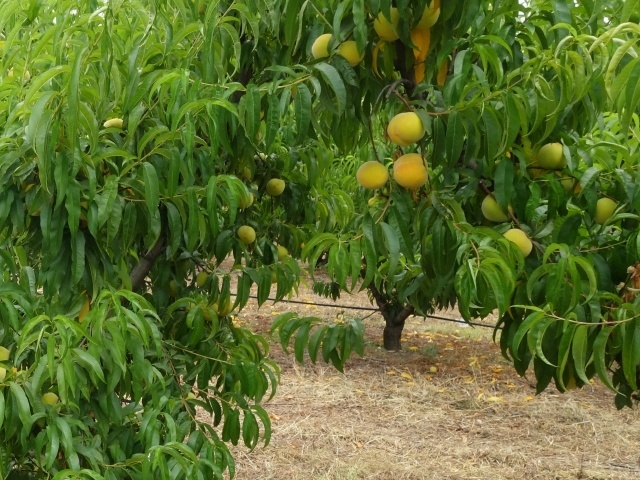peach: (384, 108, 428, 150), (372, 2, 412, 46), (392, 151, 434, 191), (351, 157, 392, 193), (478, 186, 513, 225), (535, 138, 570, 172), (591, 193, 623, 227), (310, 30, 340, 65), (501, 225, 534, 255), (411, 1, 444, 31), (334, 37, 364, 67), (40, 390, 64, 415), (234, 223, 258, 248), (262, 175, 287, 197), (193, 269, 214, 292), (271, 241, 290, 264)
